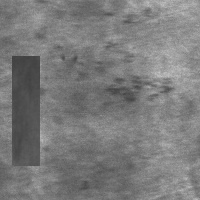inclusion: (12, 56, 40, 166)
rolled-in_scale: (74, 42, 174, 102)
